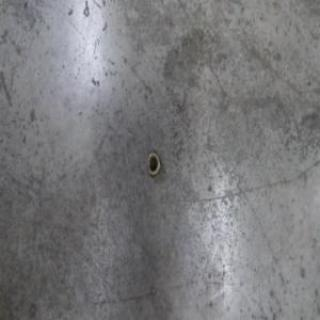Nuttrack_idkeyframe: (145, 149, 160, 179)
